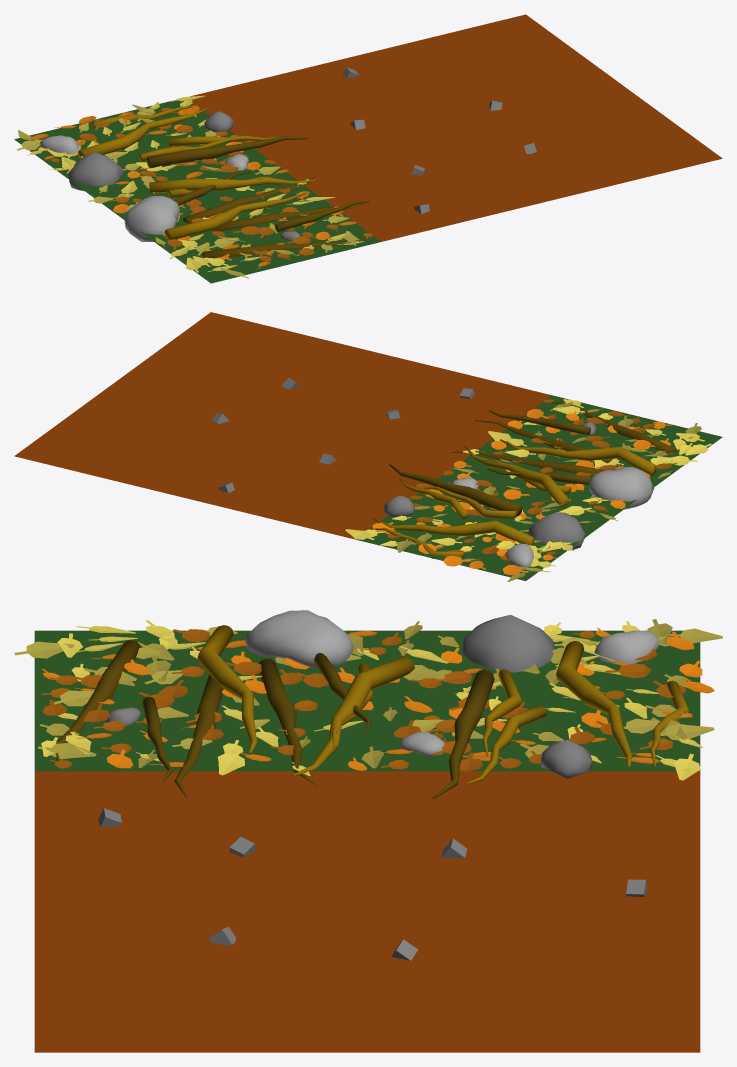
File: sol map sombre1.fbx
The picture shows the model from 3 angles, top to bottom: view 1: azimuth 30°, elevation 25°; view 2: azimuth 150°, elevation 25°; view 3: azimuth 270°, elevation 25°; orthographic projection. The views are drawn at different scales.
Parts seen in each view (by area): view 1: sol sombre gauche1; view 2: sol sombre gauche1; view 3: sol sombre gauche1.
Boxes of the visible parts, left/top/right/bottom form: sol sombre gauche1: left=14, top=14, right=722, bottom=283; sol sombre gauche1: left=14, top=312, right=722, bottom=581; sol sombre gauche1: left=14, top=610, right=722, bottom=1052.
Bounding box in the file's own units: 306 × 19.88 × 213.
